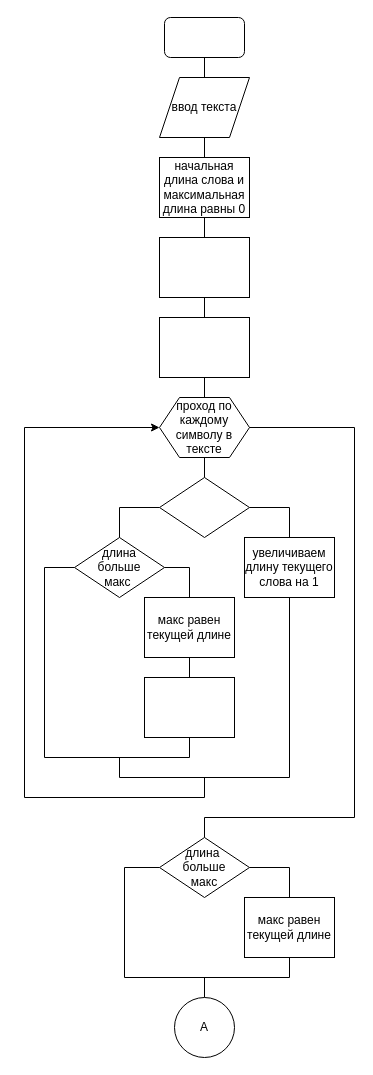
The diagram is 373 pixels wide and 1075 high, and some of its shapes have lost their labels. The shapes that lost their labels are listed below. From the top down, each one's centre as x and y in pixels, then its label:
At (x=204, y=37): "начало".
At (x=204, y=267): "строка,содержа - щая в себе все прописные буквы".
At (x=204, y=347): "строка,содержа -щая в себе все заглавные буквы".
At (x=204, y=507): "символ не пробел".
At (x=189, y=707): "длина слова обнуляется".
